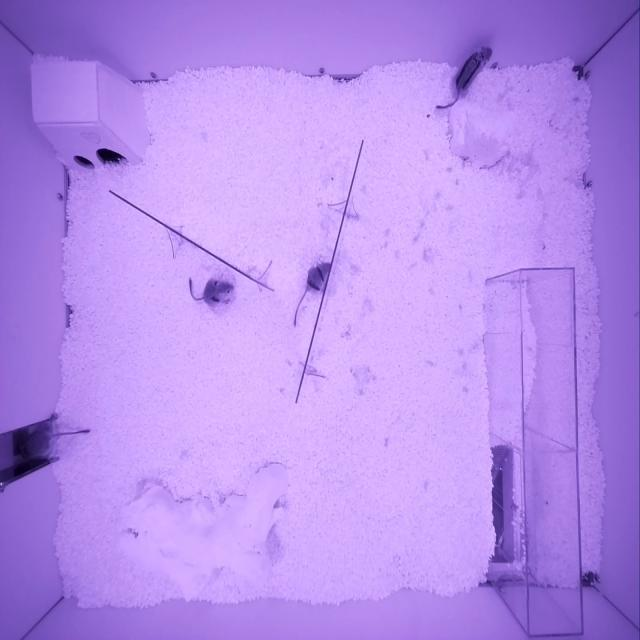pup_fluffy: (19, 430, 54, 458)
pup_h_stripe: (306, 263, 332, 295)
pup_spotted: (202, 278, 235, 310)
pup_v_stripe: (453, 47, 492, 95)
